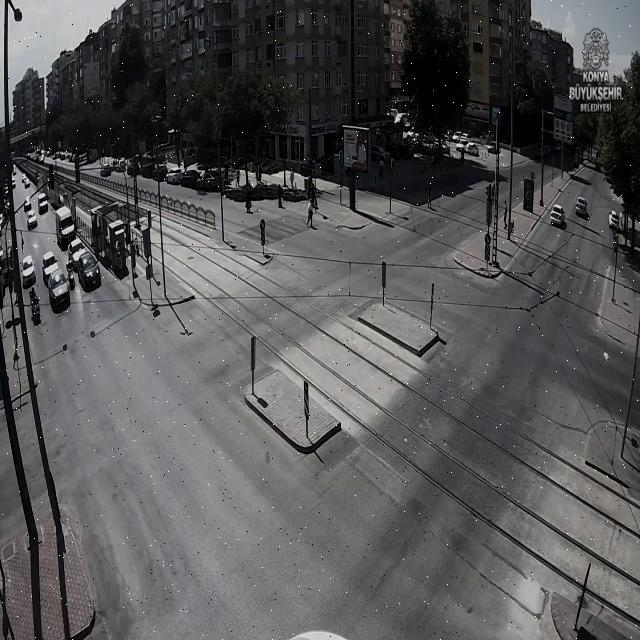Car: (48, 268, 71, 314), (79, 251, 101, 291), (17, 255, 37, 288), (42, 251, 58, 279), (68, 238, 84, 265), (549, 203, 565, 225), (608, 210, 624, 231), (575, 198, 590, 216), (25, 212, 38, 230), (466, 142, 480, 157)
Van: (56, 205, 75, 248), (38, 192, 48, 214)
